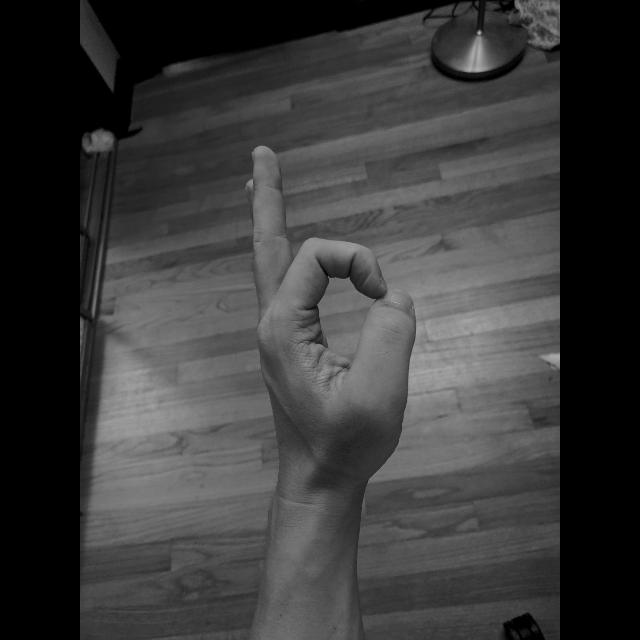F: (242, 142, 420, 492)
